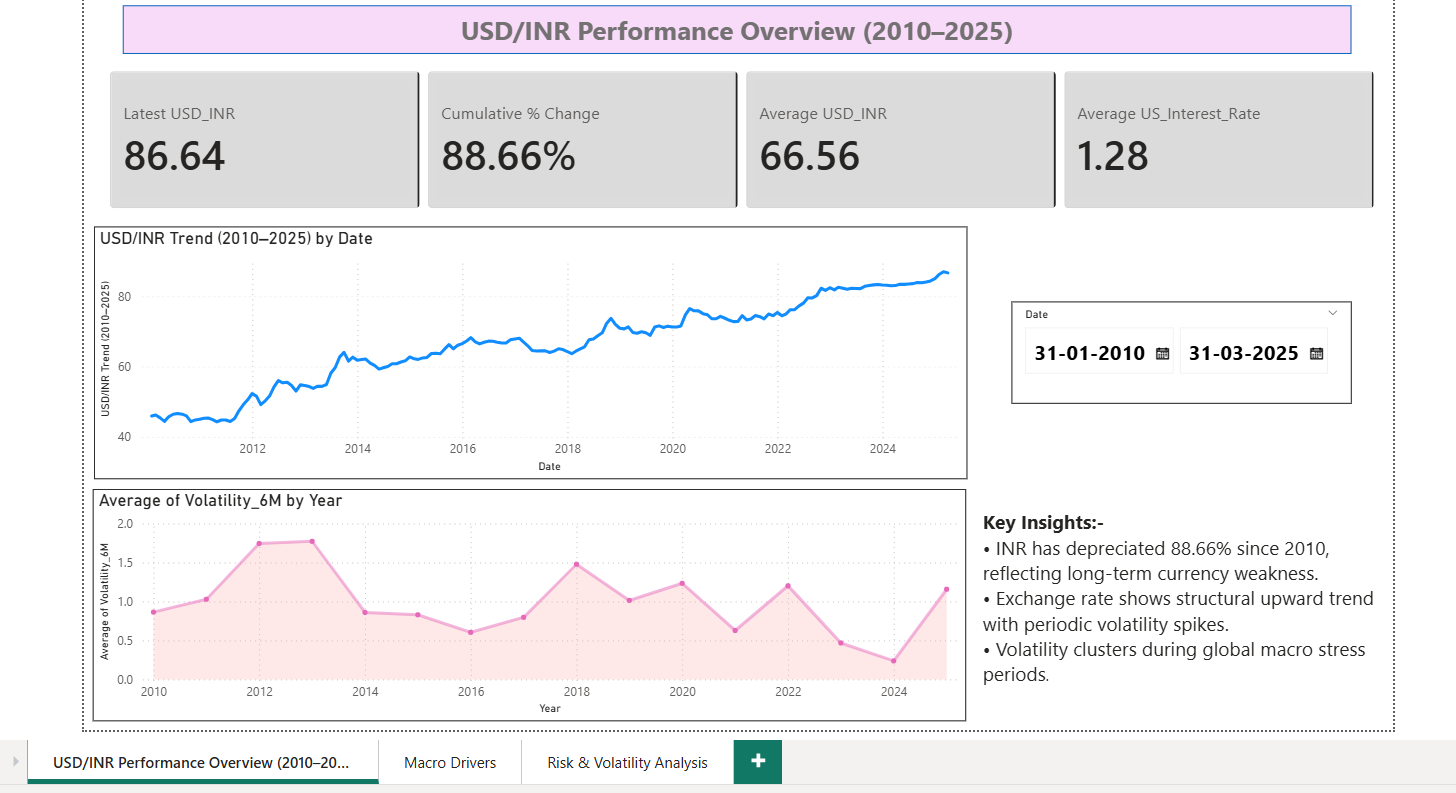

What the dashboard file says about the page in this screenshot:
{"tool":"powerbi","page":{"name":"USD/INR Performance Overview (2010–2025)","canvas":[1280,720],"ordinal":0},"visuals":[{"type":"cardVisual","fields":{"Data":["macro_combined_dataset.Latest USDINR","macro_combined_dataset.Cumulative % Change","macro_combined_dataset.Avg USD INR","Avg(macro_combined_dataset.US_Interest_Rate)"]},"box":[8.6,58.7,1270.5,168.8],"z":0},{"type":"lineChart","fields":{"Y":["Avg(macro_combined_dataset.USD_INR)"],"Category":["macro_combined_dataset.Date"]},"box":[9.8,227.4,854.8,247],"z":1000},{"type":"areaChart","fields":{"Category":["macro_combined_dataset.Date.Variation.Date Hierarchy.Year","macro_combined_dataset.Date.Variation.Date Hierarchy.Quarter","macro_combined_dataset.Date.Variation.Date Hierarchy.Month","macro_combined_dataset.Date.Variation.Date Hierarchy.Day"],"Y":["Avg(macro_combined_dataset.Volatility_6M)"]},"box":[8.6,484.2,854.8,227.4],"z":2000},{"type":"slicer","fields":{"Values":["macro_combined_dataset.Date"]},"box":[907.3,300.8,332.6,100.3],"z":3000},{"type":"shape","box":[37.9,11,1202,47.7],"z":4000},{"type":"textbox","box":[874.3,498.9,404.8,201.8],"z":4001}]}

Visuals, with their boxes on the page's 1280x720 design canvas (x1, y1, x2, y2). These are canvas units, not pixel positions in the 1456x793 screenshot, which may show the page scaled, cropped or inside an application window:
cardVisual - macro_combined_dataset.Latest USDINR x macro_combined_dataset.Cumulative % Change: [x1=9, y1=59, x2=1279, y2=228]
lineChart - Avg(macro_combined_dataset.USD_INR) x macro_combined_dataset.Date: [x1=10, y1=227, x2=865, y2=474]
areaChart - macro_combined_dataset.Date.Variation.Date Hierarchy.Year x macro_combined_dataset.Date.Variation.Date Hierarchy.Quarter: [x1=9, y1=484, x2=863, y2=712]
slicer - macro_combined_dataset.Date: [x1=907, y1=301, x2=1240, y2=401]
shape: [x1=38, y1=11, x2=1240, y2=59]
textbox: [x1=874, y1=499, x2=1279, y2=701]
